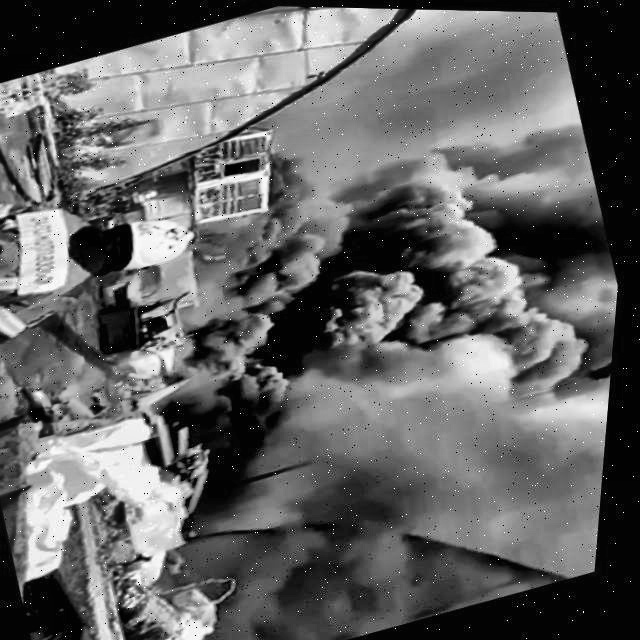Smoke: (106, 91, 634, 543)
